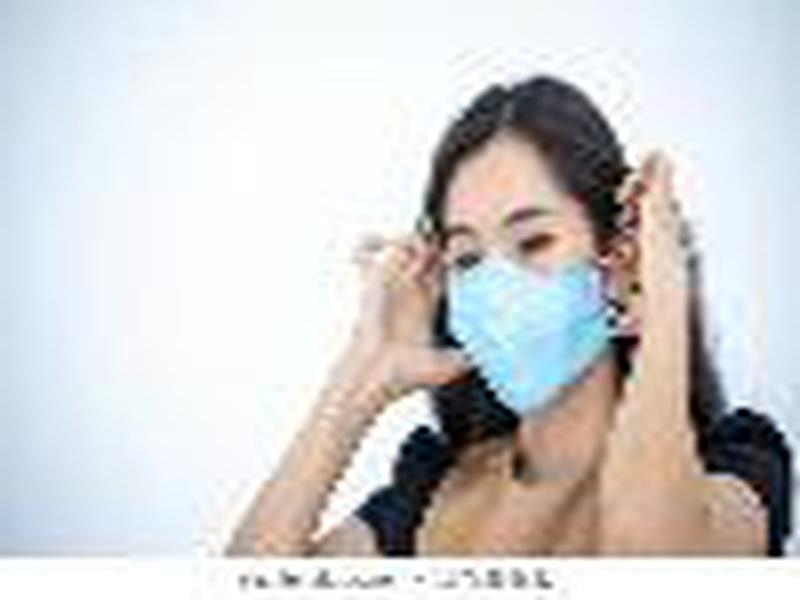with_mask: (429, 77, 639, 420)
